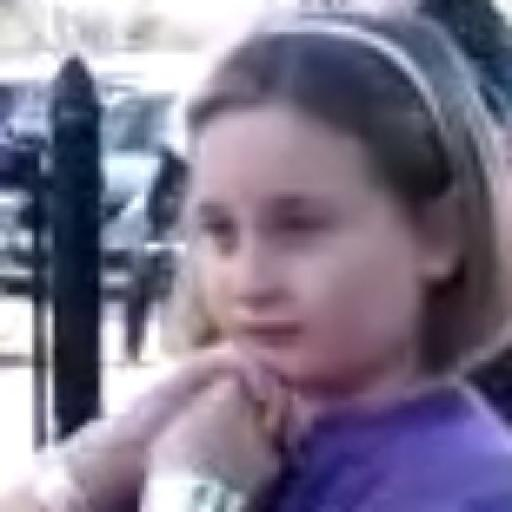Autism: (166, 58, 502, 470)
